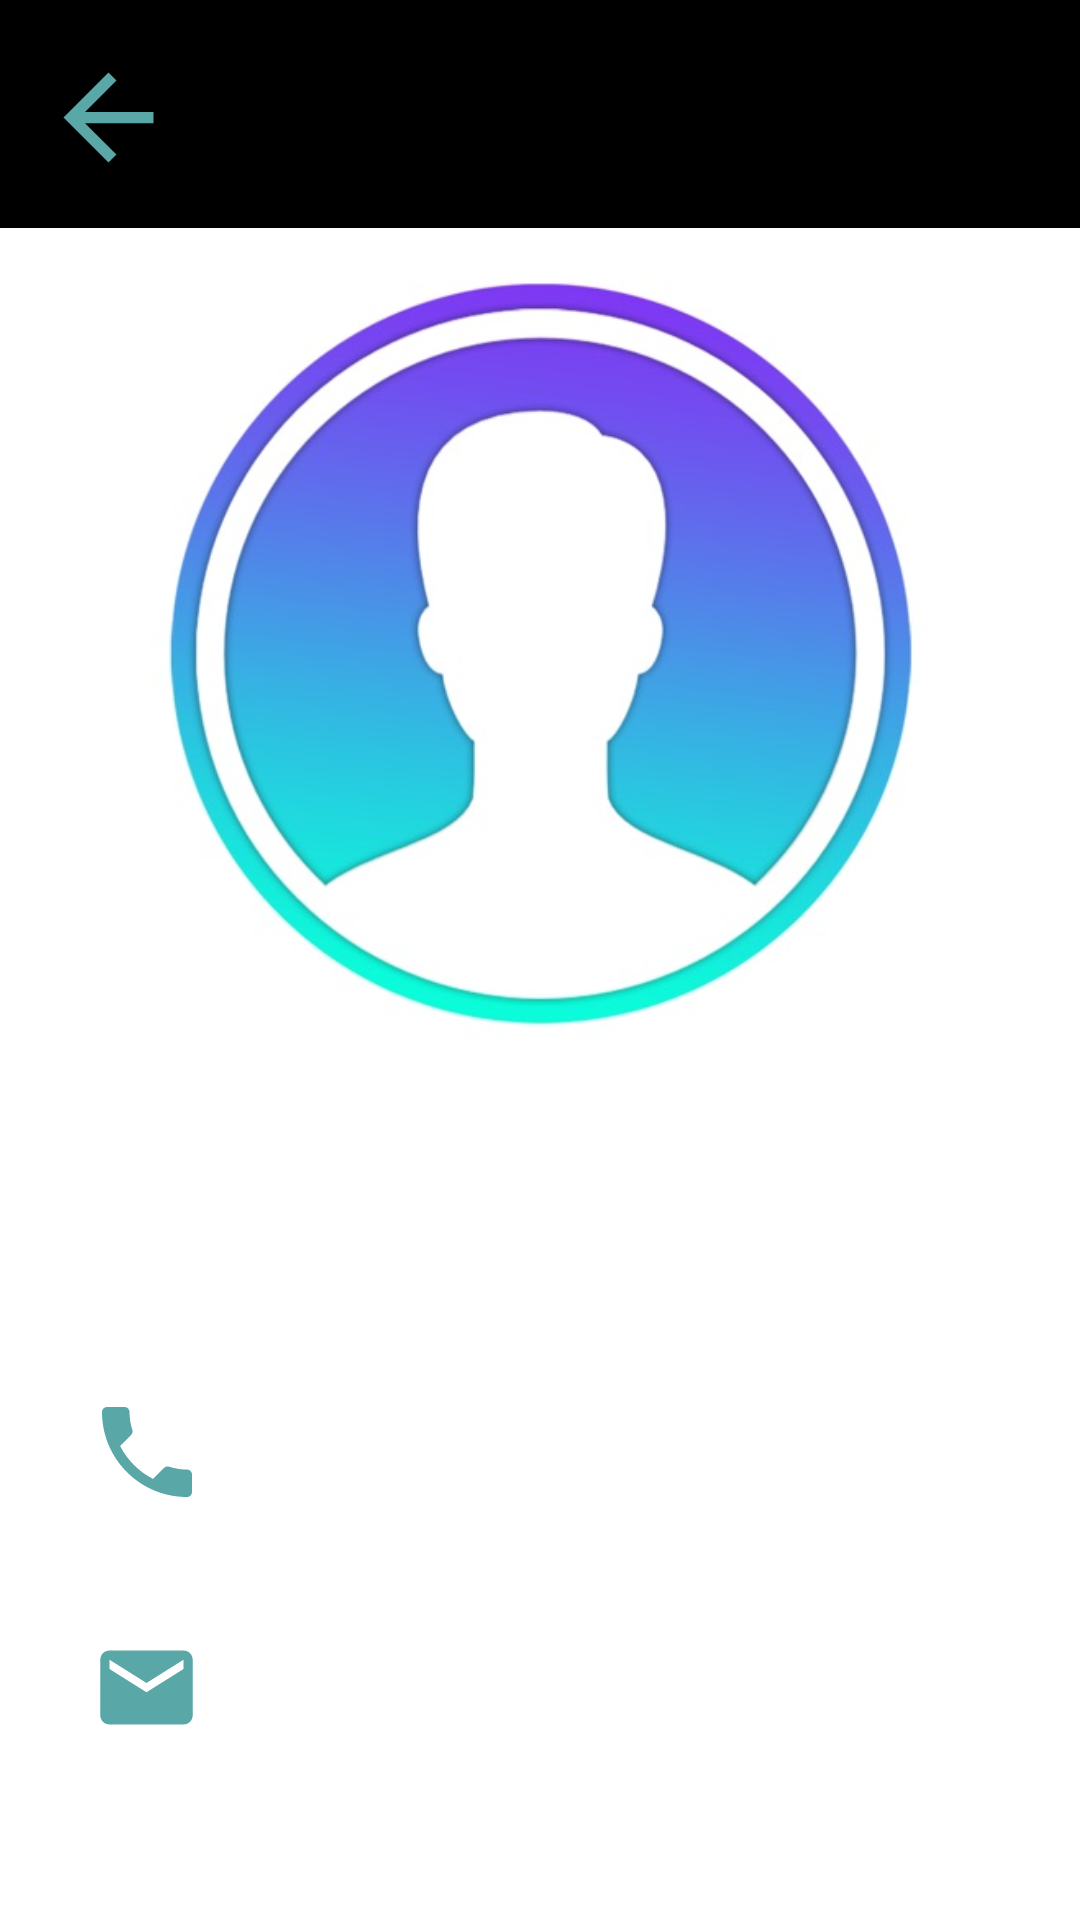

Icon bounding boxes for this 1080×1920 phone screenshot, format rect(x1, y1, x2, y2):
arrow back: rect(63, 72, 154, 163)
email: rect(100, 1650, 193, 1725)
local phone: rect(102, 1407, 192, 1497)
